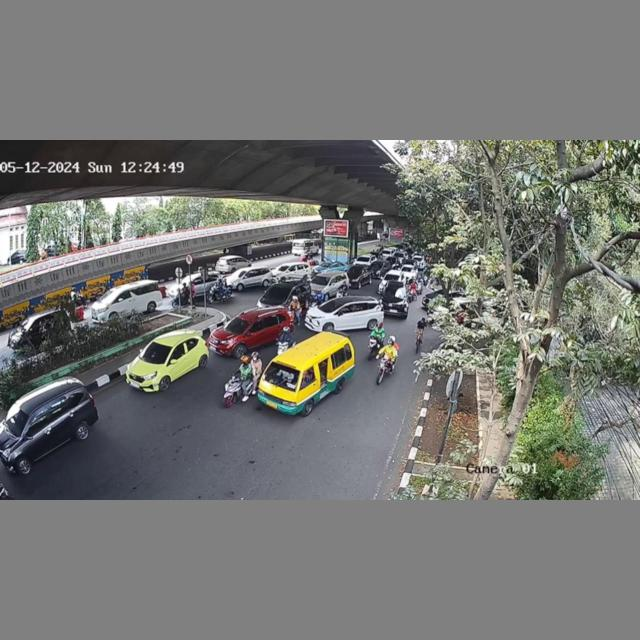windshield: (265, 361, 298, 388), (137, 342, 171, 364), (224, 315, 252, 336)
